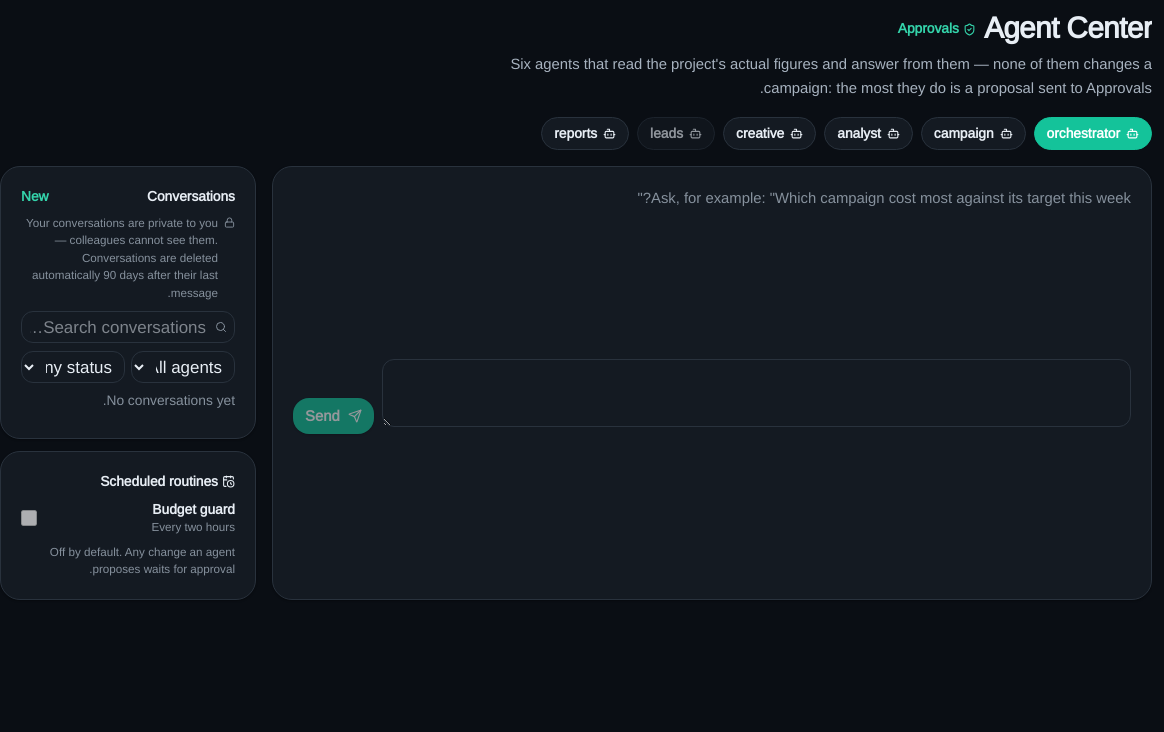
Test: the agent center › lists the six agents and says why the leads agent cannot work yet
Check: the tab with test id "agent-analyst" is shown, box [824,117,913,150]
Click the tab with test id "agent-leads". click: [676, 133]
box: [637,117,715,150]
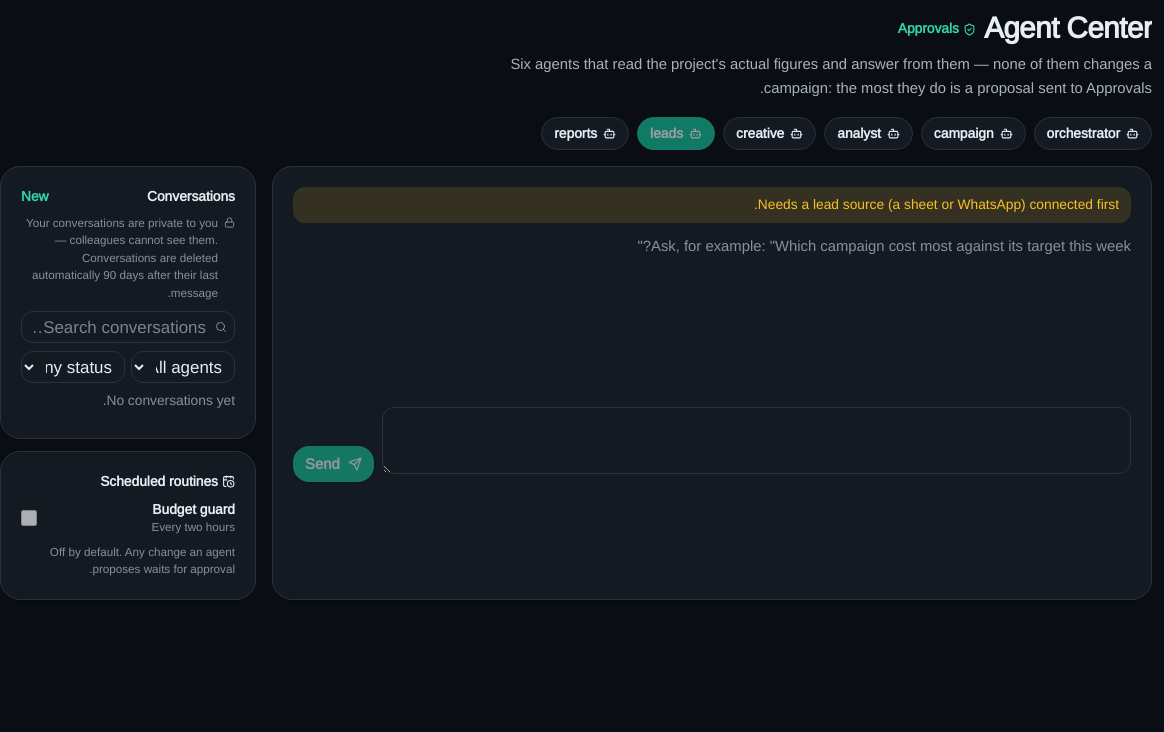
Check: the button with test id "agent-send" is disabled, box [293,446,374,482]
Check: the text with test id "agent-unavailable" shows "lead source", box [754,196,1119,212]
